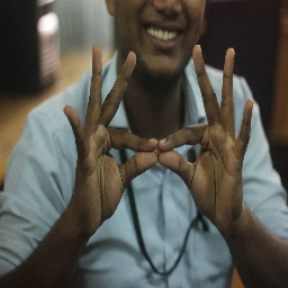B: (97, 108, 218, 192)
